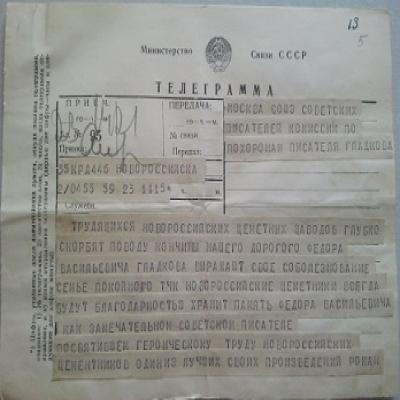document: (0, 3, 400, 400)
